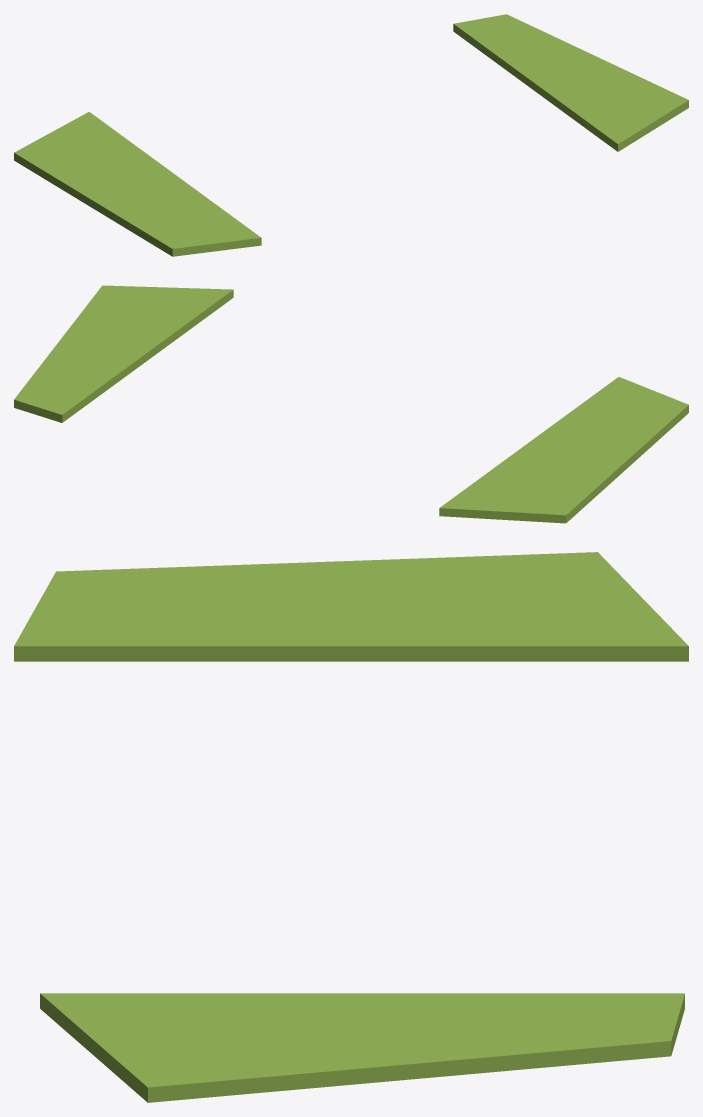
3 views of the same model, one above another, from view 1: azimuth 30°, elevation 25°; view 2: azimuth 150°, elevation 25°; view 3: azimuth 270°, elevation 25° (orthographic). The views are drawn at different scales.
Visible parts, largest first — view 1: 岩台独立草顶_留出水口.001; view 2: 岩台独立草顶_留出水口.001; view 3: 岩台独立草顶_留出水口.001.
Boxes of the visible parts, x1,y1,x2,y2 form: 岩台独立草顶_留出水口.001: (14, 14, 688, 256); 岩台独立草顶_留出水口.001: (14, 285, 688, 523); 岩台独立草顶_留出水口.001: (14, 552, 688, 1102).
Bounding box in the file's own units: 1.05 × 0.014 × 0.5587.
